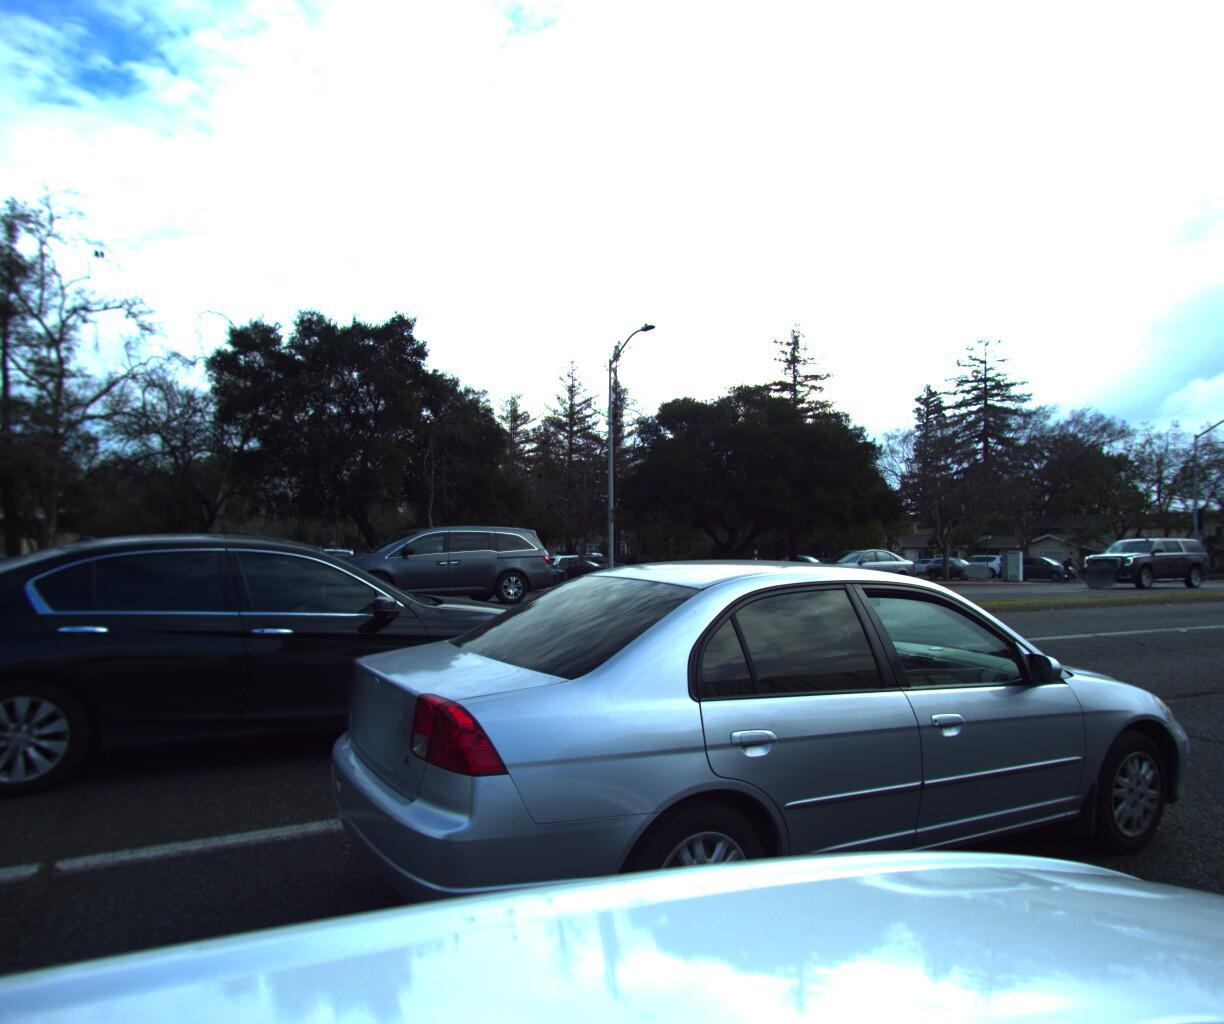car: (295, 554, 1224, 1024), (302, 520, 559, 611), (1068, 528, 1211, 584), (788, 546, 921, 591), (990, 549, 1079, 578), (943, 549, 1009, 573), (890, 553, 943, 574), (776, 551, 832, 570), (1207, 547, 1224, 579)
